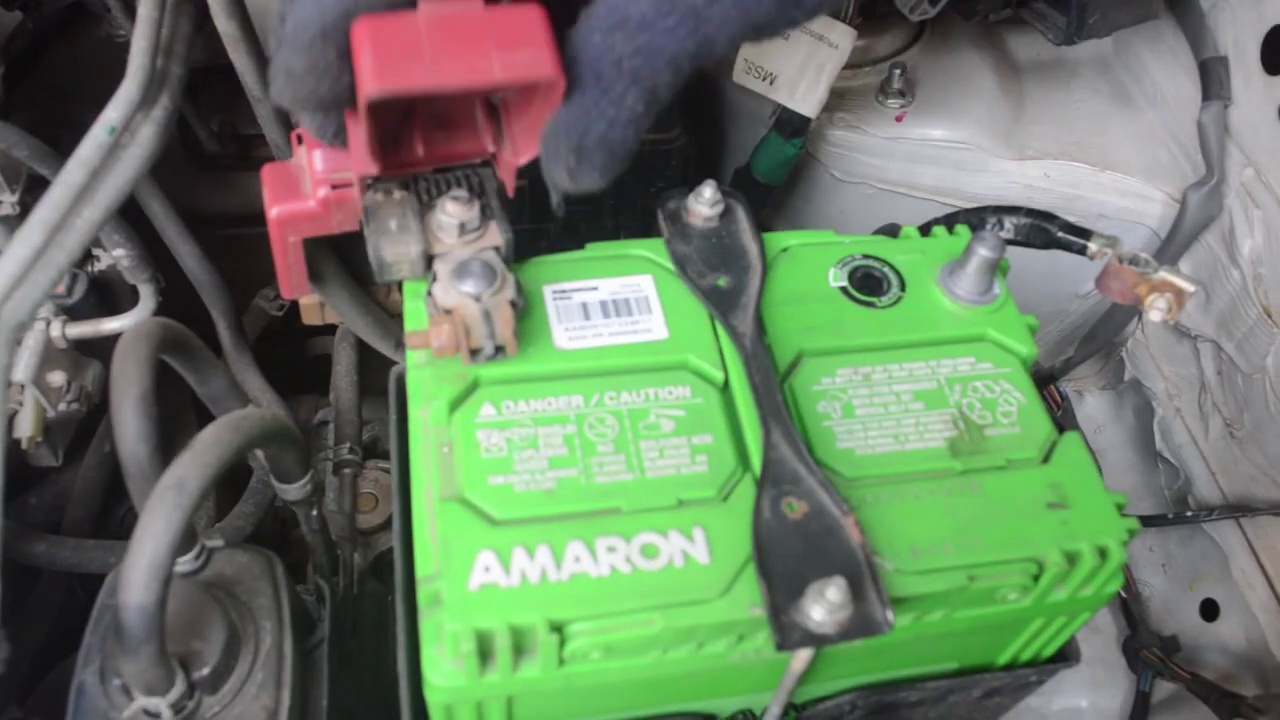battery: (392, 246, 1130, 634)
neg_disconnected: (888, 212, 1045, 329)
pos_connected: (319, 66, 550, 378)
pos_touched: (245, 4, 662, 342)
